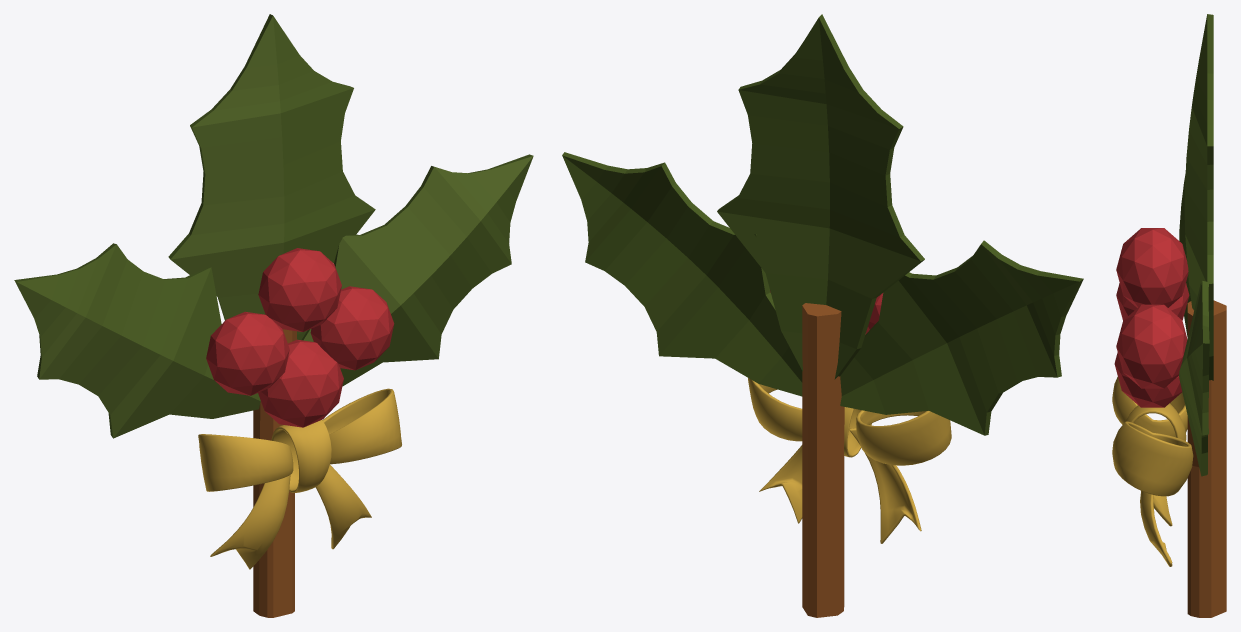
Rendered from 07 Holly Sprig.glb.
3 views of the same model, side by side, from view 1: azimuth 30°, elevation 25°; view 2: azimuth 150°, elevation 25°; view 3: azimuth 270°, elevation 25° (orthographic).
Parts seen in each view (by area): view 1: Tall central pointed holly leaf, Left pointed holly leaf, Right pointed holly leaf, Left faceted red berry, Top faceted red berry, Bottom faceted red berry, Right faceted red berry, Brown woody stem, Left sculpted curled golden bow loop, Right sculpted curled golden bow loop, Left curved notched golden ribbon tail, Left sculpted curled golden bow loop.001 (+1 smaller); view 2: Tall central pointed holly leaf, Left pointed holly leaf, Right pointed holly leaf, Brown woody stem, Left sculpted curled golden bow loop, Left curved notched golden ribbon tail, Right sculpted curled golden bow loop, Right curved notched golden ribbon tail; view 3: Brown woody stem, Tall central pointed holly leaf, Right faceted red berry, Top faceted red berry, Right sculpted curled golden bow loop, Right pointed holly leaf, Left sculpted curled golden bow loop, Bottom faceted red berry, Right curved notched golden ribbon tail, Left sculpted curled golden bow loop.001, Left faceted red berry, Left pointed holly leaf (+1 smaller).
Boxes of the visible parts, <box> form: Tall central pointed holly leaf: <box>168,14,375,340</box>; Left pointed holly leaf: <box>14,243,260,438</box>; Right pointed holly leaf: <box>302,154,533,386</box>; Left faceted red berry: <box>206,311,289,395</box>; Top faceted red berry: <box>258,248,341,331</box>; Bottom faceted red berry: <box>258,339,343,427</box>; Right faceted red berry: <box>310,286,394,370</box>; Brown woody stem: <box>253,329,296,617</box>; Left sculpted curled golden bow loop: <box>198,434,293,491</box>; Right sculpted curled golden bow loop: <box>322,388,401,464</box>; Left curved notched golden ribbon tail: <box>210,475,290,569</box>; Left sculpted curled golden bow loop.001: <box>271,420,331,492</box>; Tall central pointed holly leaf: <box>717,14,924,379</box>; Left pointed holly leaf: <box>840,240,1083,435</box>; Right pointed holly leaf: <box>562,152,802,396</box>; Brown woody stem: <box>802,303,844,617</box>; Left sculpted curled golden bow loop: <box>856,410,951,465</box>; Left curved notched golden ribbon tail: <box>849,428,921,543</box>; Right sculpted curled golden bow loop: <box>748,378,802,441</box>; Right curved notched golden ribbon tail: <box>759,445,802,523</box>; Brown woody stem: <box>1187,300,1226,617</box>; Tall central pointed holly leaf: <box>1184,14,1213,380</box>; Right faceted red berry: <box>1116,304,1187,388</box>; Top faceted red berry: <box>1116,228,1188,307</box>; Right sculpted curled golden bow loop: <box>1112,421,1193,496</box>; Right pointed holly leaf: <box>1179,281,1209,476</box>; Left sculpted curled golden bow loop: <box>1112,376,1187,437</box>; Bottom faceted red berry: <box>1114,352,1182,407</box>; Right curved notched golden ribbon tail: <box>1140,491,1172,566</box>; Left sculpted curled golden bow loop.001: <box>1125,403,1186,440</box>; Left faceted red berry: <box>1116,283,1189,320</box>; Left pointed holly leaf: <box>1179,174,1191,336</box>.
Bounding box in the file's own units: 5.84 × 6.4 × 1.12.
